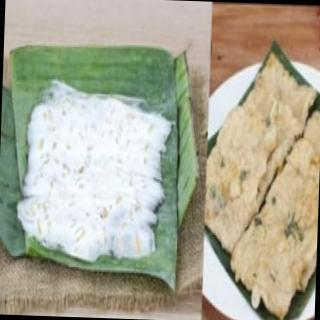Tempe: (15, 77, 172, 265)
